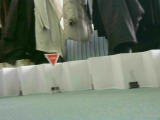stop: (44, 53, 60, 66)
